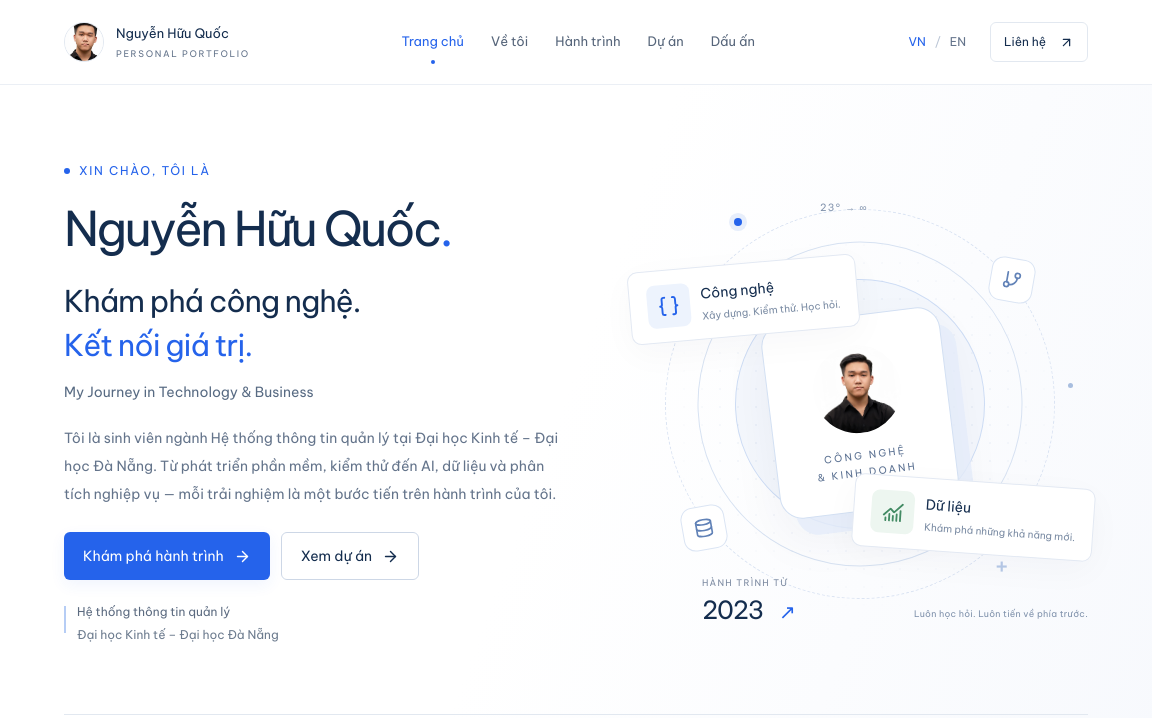
supporting pages and contact › copies the published contact email and hides unavailable CV downloads
Click the button named "English" at (958, 42), box top-left (948, 22), bottom-right (968, 62)
(page scrolled)
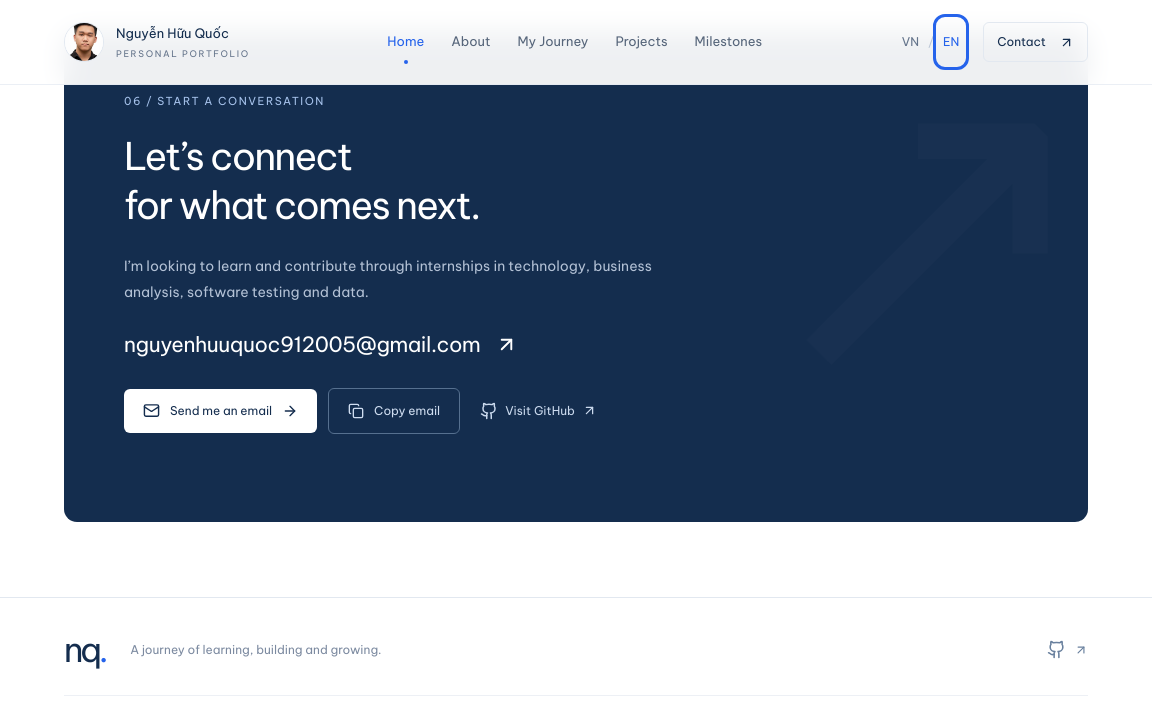
Click the button "Copy email" at (394, 411), box top-left (328, 388), bottom-right (460, 434)
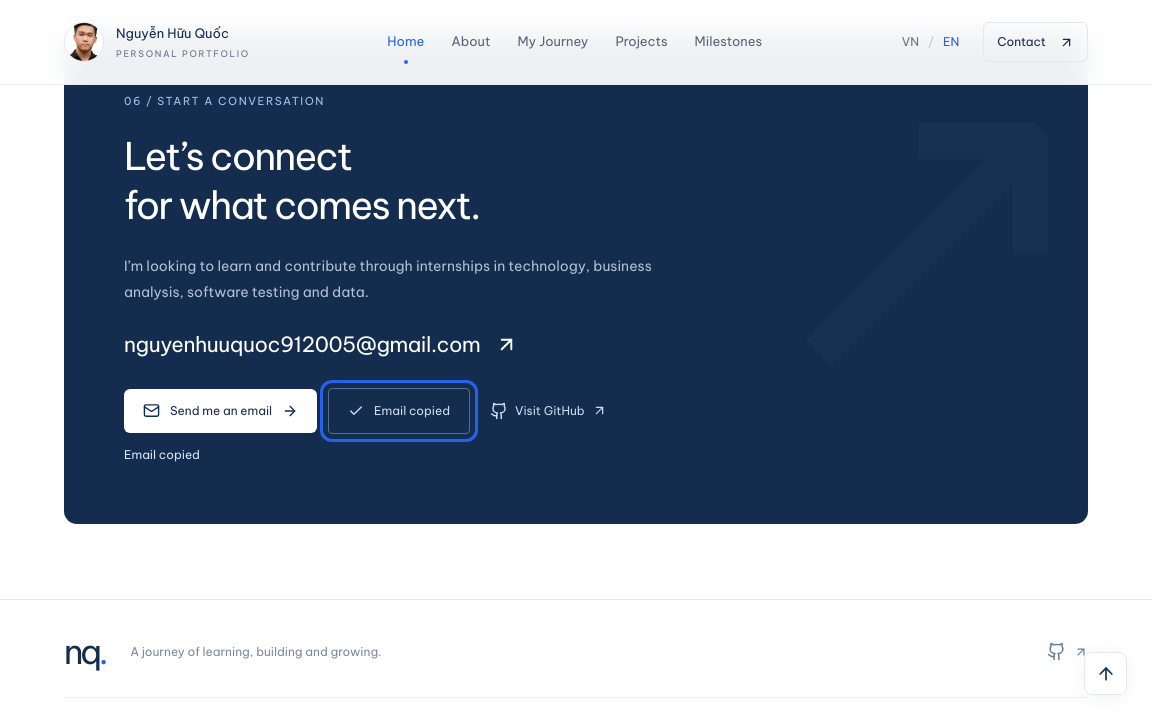
Expected: the message reads "Email copied", top-left (124, 446), bottom-right (200, 462)
